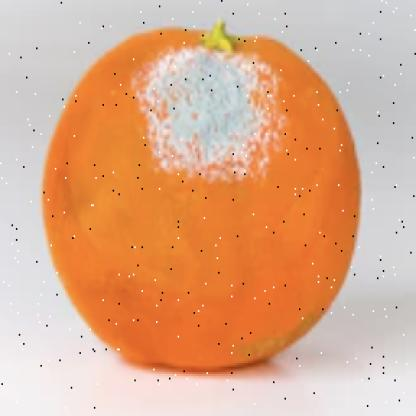rotten: (44, 26, 361, 375)
